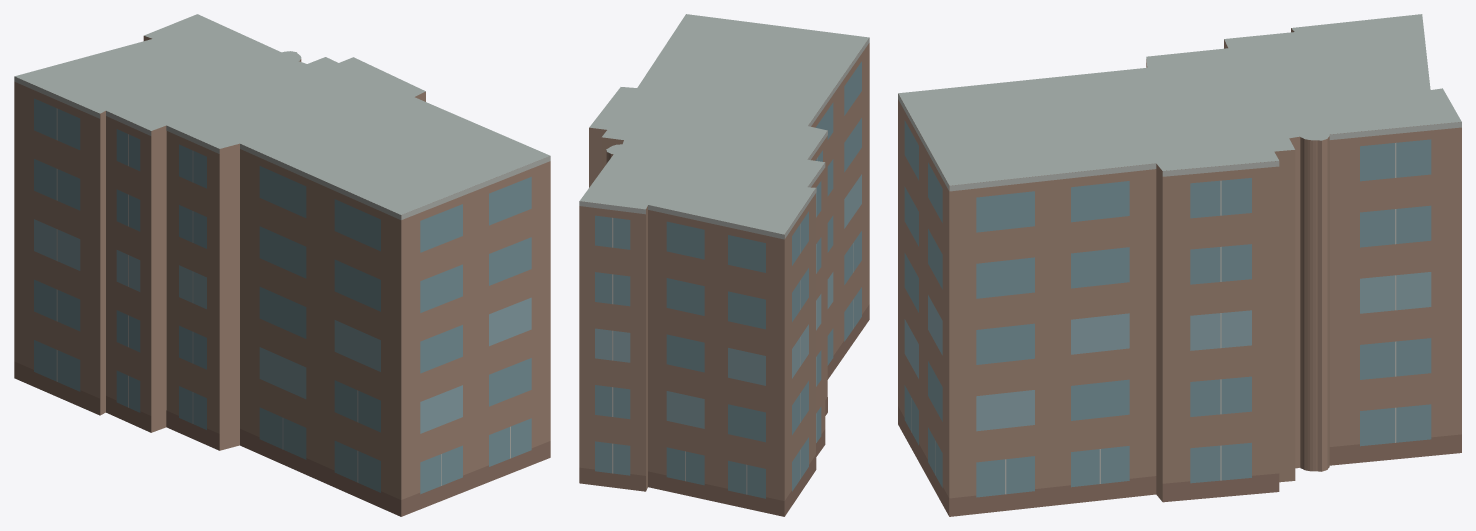
File: survey-upis-32631653.glb
3 views of the same model, side by side, from view 1: azimuth 30°, elevation 25°; view 2: azimuth 150°, elevation 25°; view 3: azimuth 270°, elevation 25° (orthographic). The views are drawn at different scales.
Parts seen in each view (by area): view 1: survey-upis-32631653.tmp; view 2: survey-upis-32631653.tmp; view 3: survey-upis-32631653.tmp.
Boxes of the visible parts, x1,y1,x2,y2 form: survey-upis-32631653.tmp: (14,14,550,516); survey-upis-32631653.tmp: (579,14,869,516); survey-upis-32631653.tmp: (898,14,1461,516).
Bounding box in the file's own units: 15.7 × 14.1 × 21.77.
